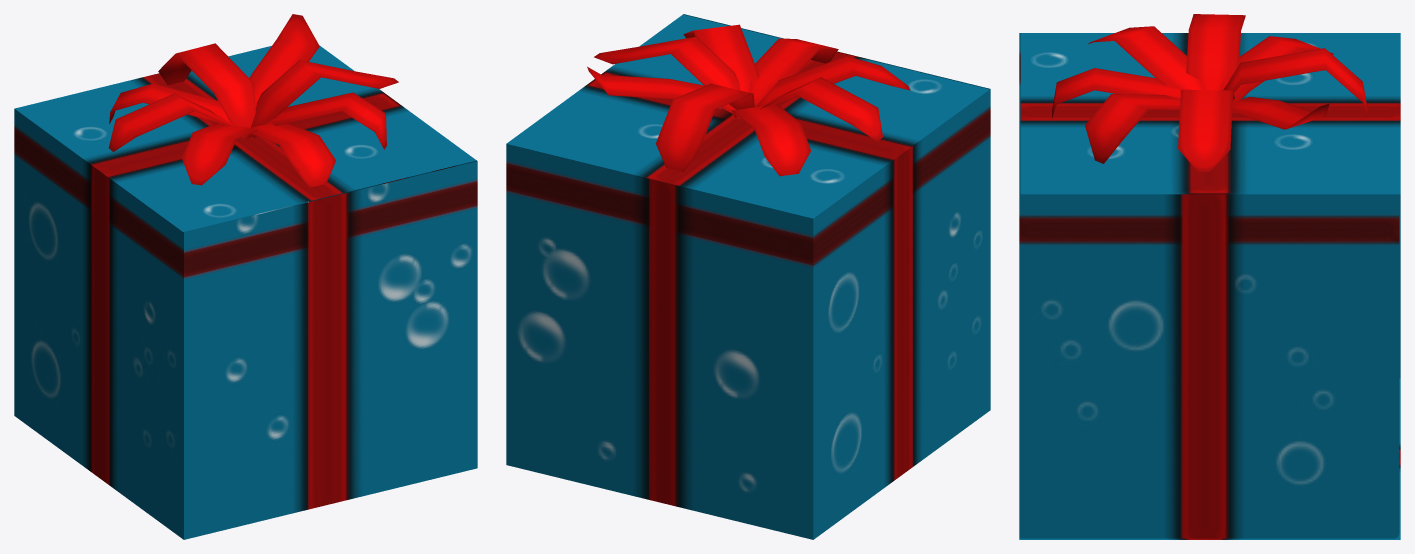
The model's file is Gift_1.fbx.
The picture shows the model from 3 angles, left to right: view 1: azimuth 30°, elevation 25°; view 2: azimuth 150°, elevation 25°; view 3: azimuth 270°, elevation 25°; orthographic projection. The views are drawn at different scales.
Parts seen in each view (by area): view 1: Gift__1; view 2: Gift__1; view 3: Gift__1.
Boxes of the visible parts, bbox=[...] form: Gift__1: bbox=[14, 14, 477, 539]; Gift__1: bbox=[506, 14, 990, 539]; Gift__1: bbox=[1019, 14, 1400, 539].
Bounding box in the file's own units: 2.01 × 2.38 × 2.
1 material, 1 textured.
